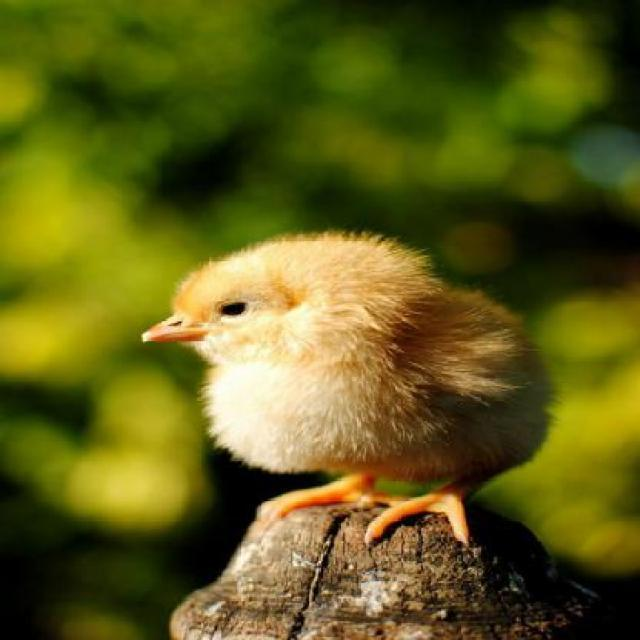poussin: (138, 226, 566, 555)
